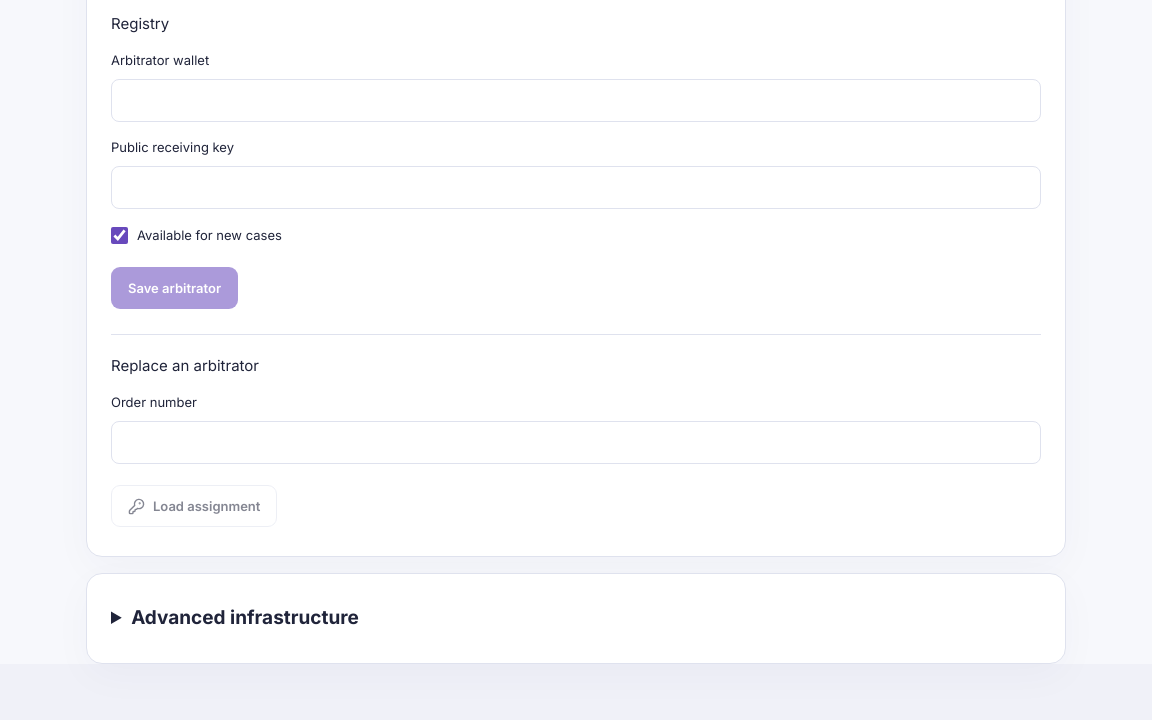
Test: uses the order's recorded arbitration fee asset when displaying a replacement
(page scrolled)
Type "42" into the field labelled "Order number".
click(576, 442); type("42")  # box [111,421,1041,464]
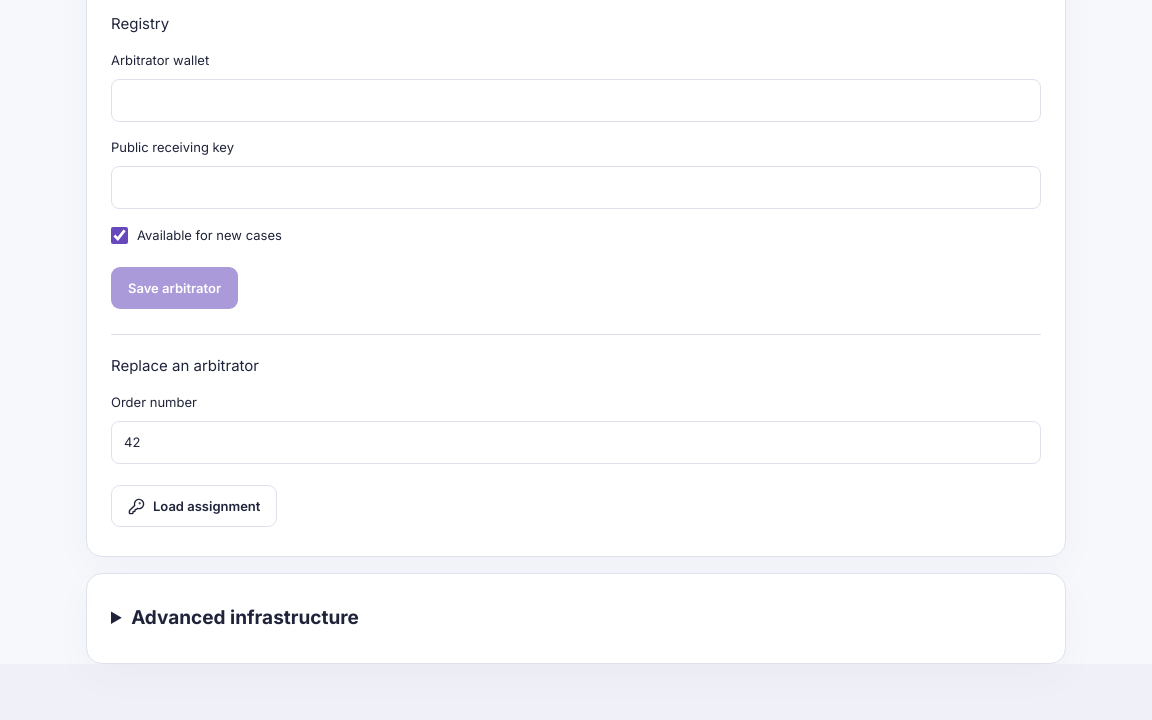
Click the button "Load assignment".
click(194, 506)  # box [111,485,277,527]
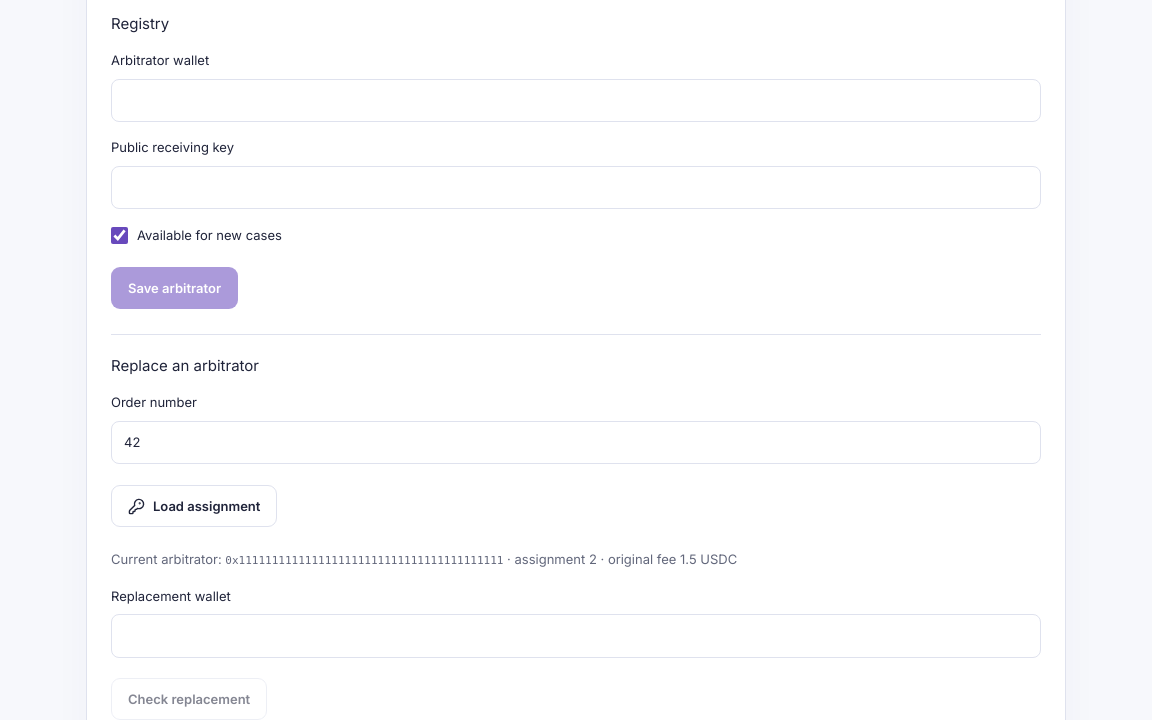
Check: the text "original fee 1.5 USDC" is shown, box [111,551,737,567]
